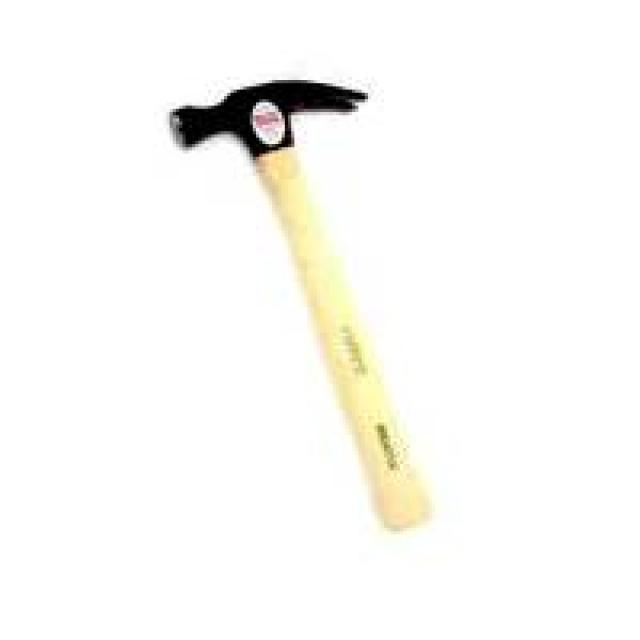hammer: (161, 67, 467, 548)
